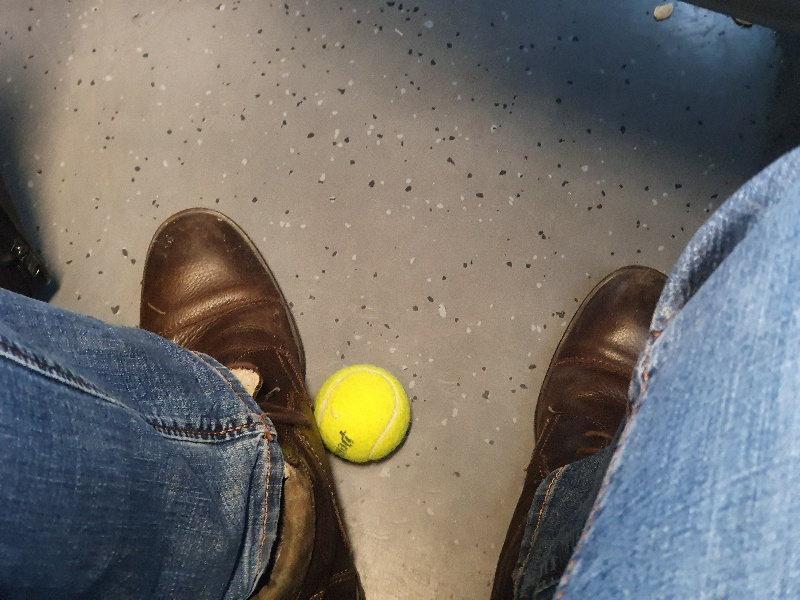Tennisball: (302, 350, 424, 474)
